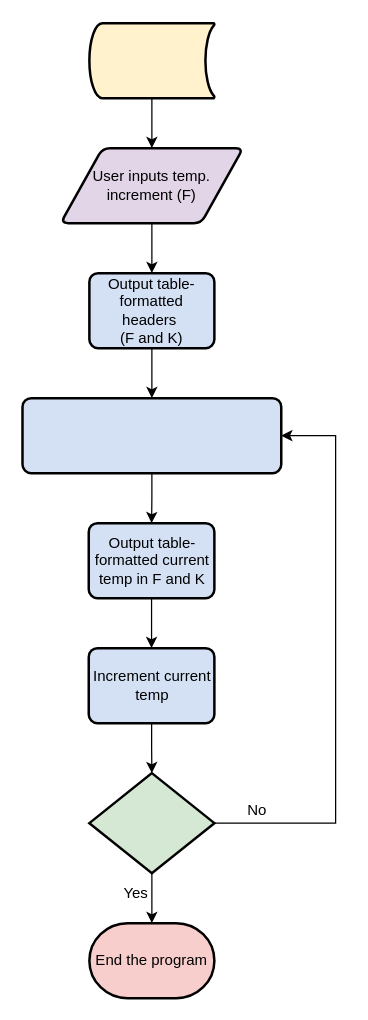
This 368x1020 diagram has some shape labels left out. Each missing label, with the box of its shape:
Calculate current temp using formula: K=(current temp - 32) * 5/9 + 273.15: (21, 396, 282, 474)
Is our current temp at the high bound?: (88, 771, 215, 874)
Low bound=0, high bound=200, current temp is low bound: (88, 21, 215, 99)
